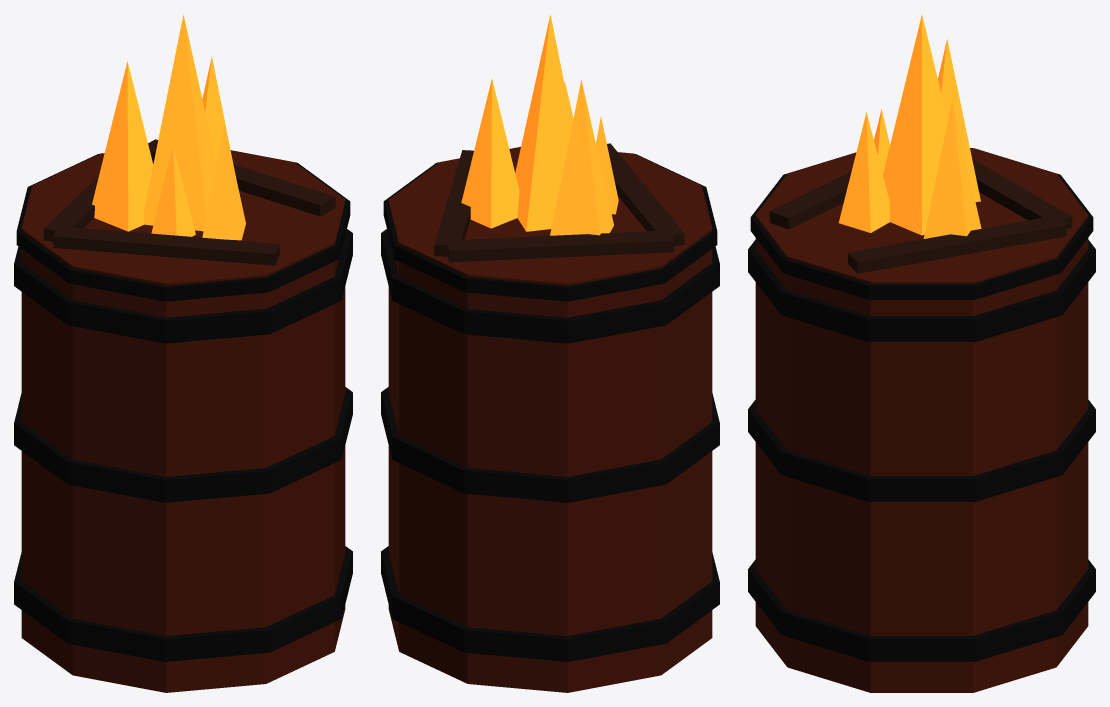
Rendered from SM_HLight_FireBarrel.glb.
The picture shows the model from 3 angles, left to right: view 1: azimuth 30°, elevation 25°; view 2: azimuth 150°, elevation 25°; view 3: azimuth 270°, elevation 25°; orthographic projection.
Visible parts, largest first — view 1: SM_HLight_FireBarrel; view 2: SM_HLight_FireBarrel; view 3: SM_HLight_FireBarrel.
Part boxes in pixels (box(x1,y1,x2,y2)): SM_HLight_FireBarrel: box(14, 14, 352, 692); SM_HLight_FireBarrel: box(381, 14, 719, 692); SM_HLight_FireBarrel: box(748, 15, 1095, 692).
Bounding box in the file's own units: 0.6562 × 1.34 × 0.69.
